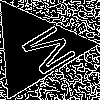M: (10, 23, 79, 83)
